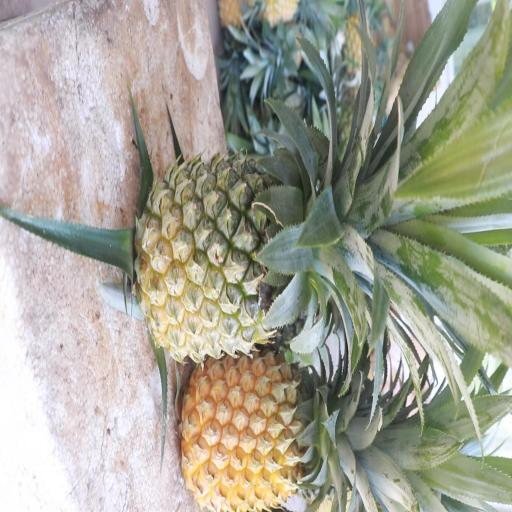------------------------------: (140, 154, 314, 358)
Pineapple - v8 v1: (184, 351, 342, 510)
